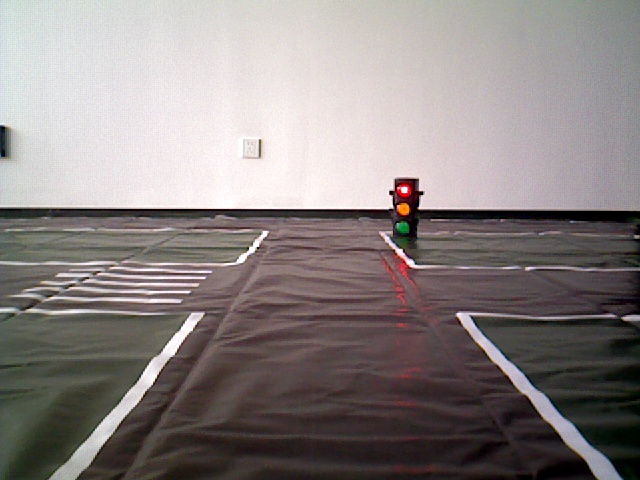red: (392, 178, 413, 238)
